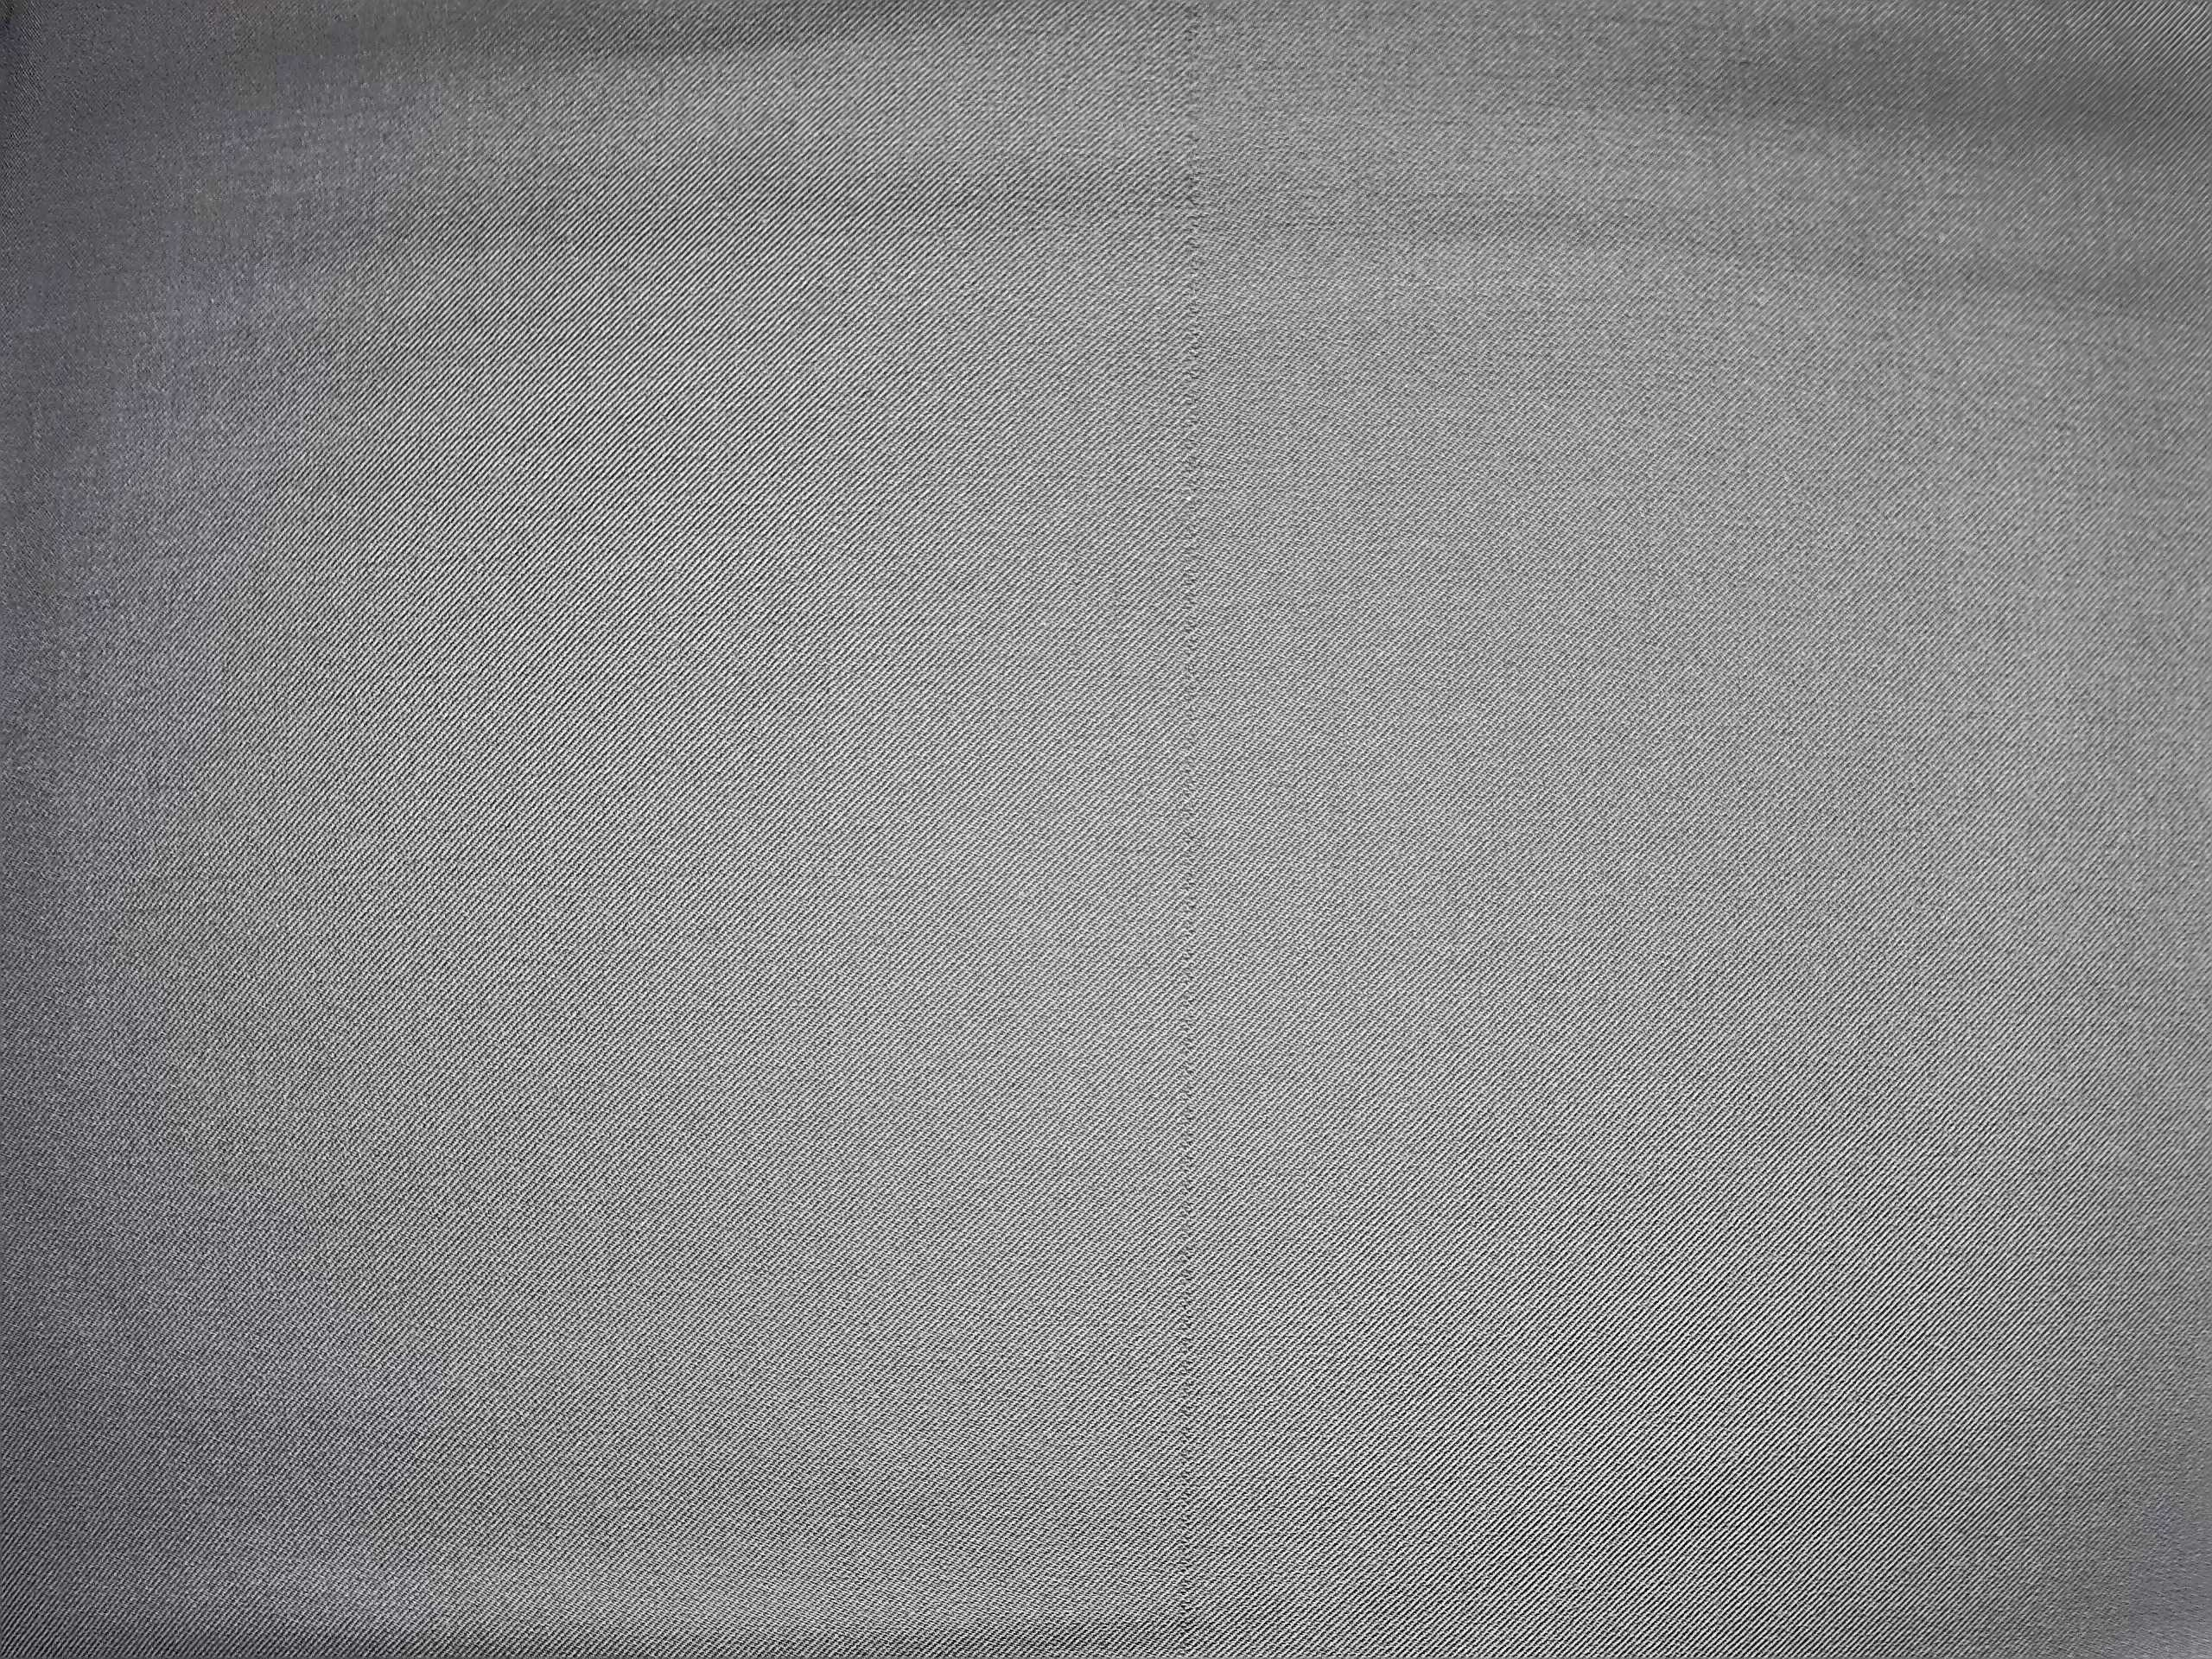hanging-warp: (1158, 9, 1230, 1650)
